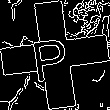P_N: (33, 27, 77, 83)
